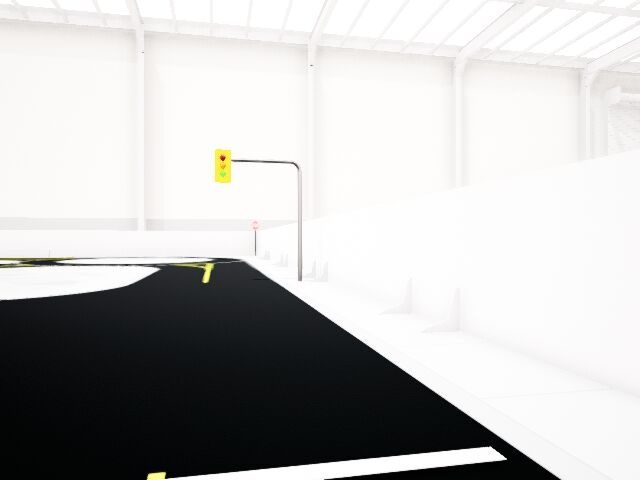green: (215, 149, 231, 184)
